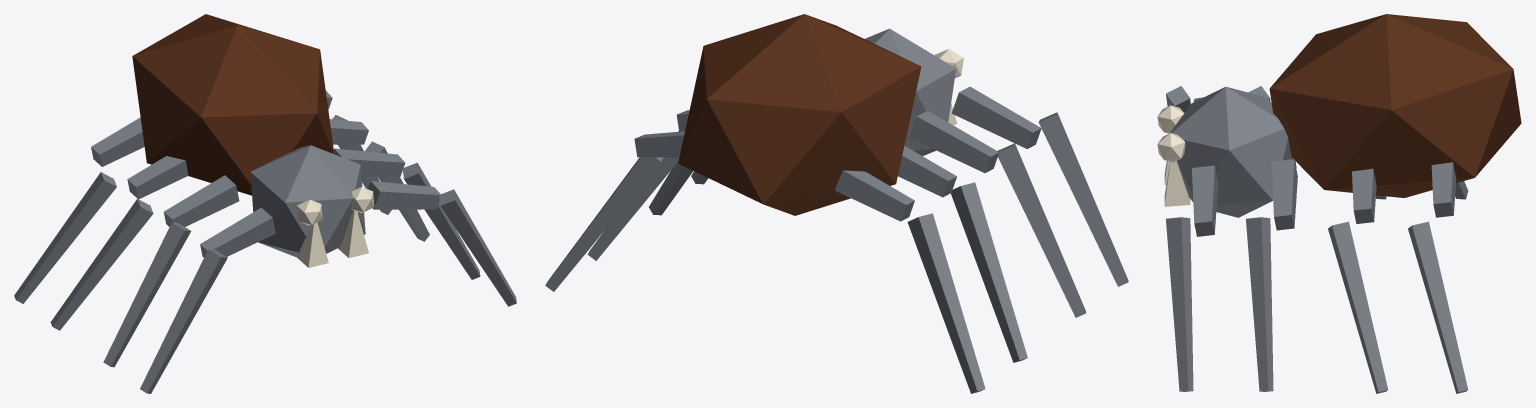
The model's file is npcpose_spider_attack_11.glb.
The picture shows the model from 3 angles, left to right: view 1: azimuth 30°, elevation 25°; view 2: azimuth 150°, elevation 25°; view 3: azimuth 270°, elevation 25°; orthographic projection. The views are drawn at different scales.
Visible parts, largest first — view 1: npcpose; view 2: npcpose; view 3: npcpose.
Part boxes in pixels (x1,y1,x2,y2): npcpose: (14, 14, 516, 393); npcpose: (545, 14, 1128, 393); npcpose: (1157, 14, 1521, 393).
Size of the model in its own units: 1.31 by 0.8571 by 1.
